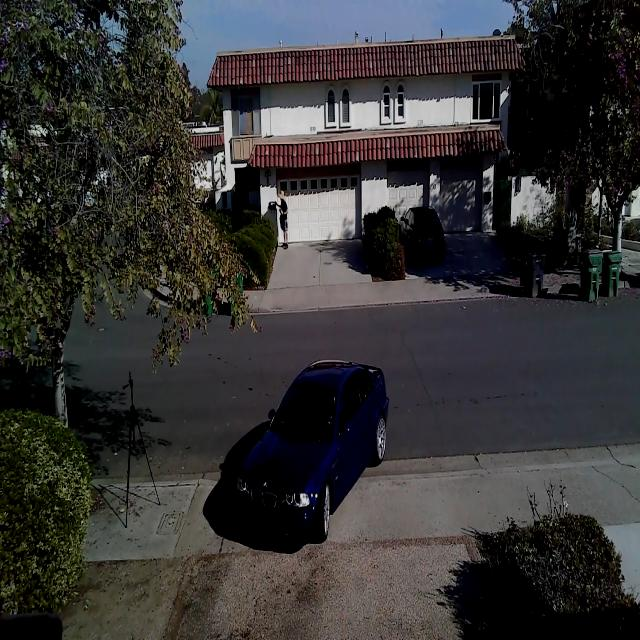Carbeetle: (227, 354, 392, 554)
Civilian: (399, 205, 445, 263)
